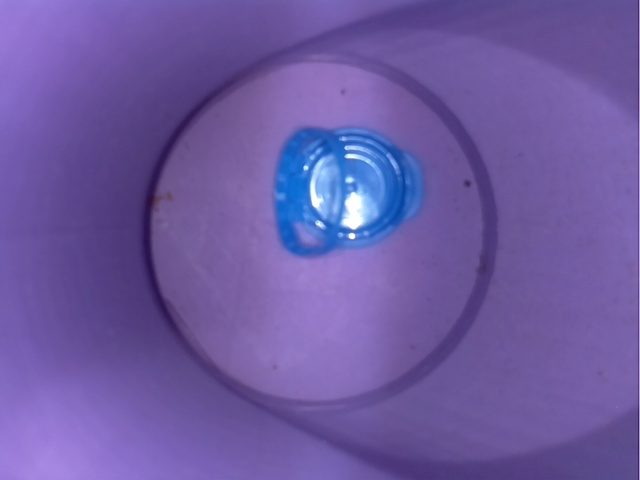bouchon: (243, 105, 451, 266)
